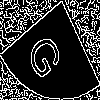G: (25, 25, 69, 84)
